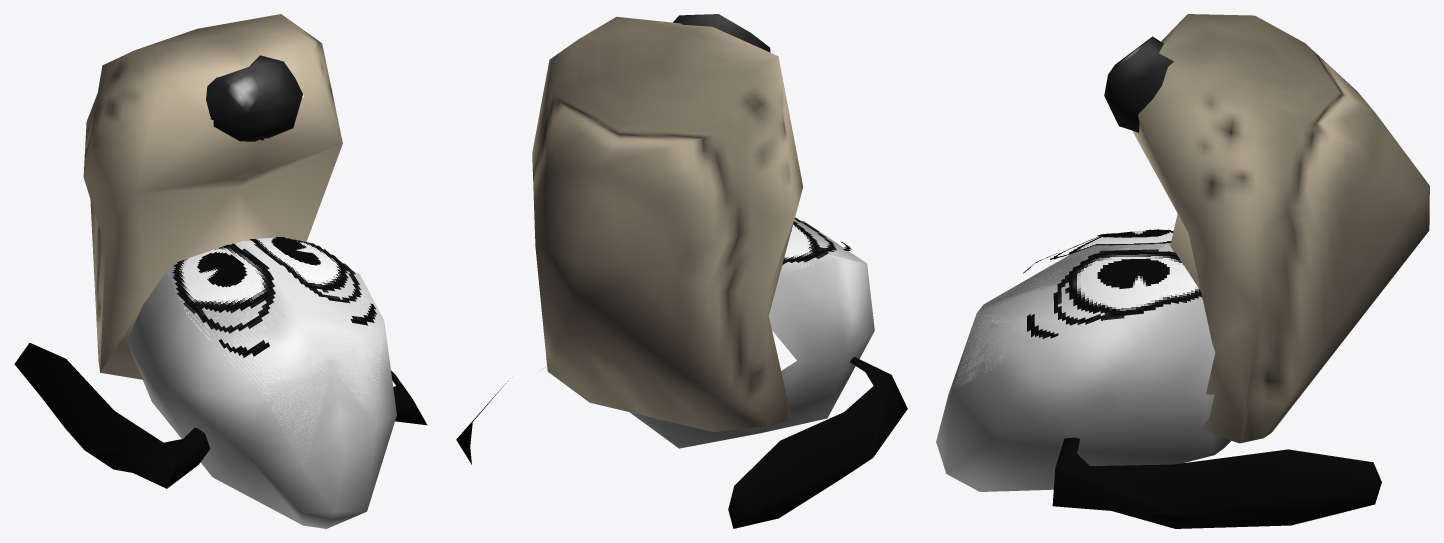
Rendered from dll_500.glb.
3 renders of one model, left to right at view 1: azimuth 30°, elevation 25°; view 2: azimuth 150°, elevation 25°; view 3: azimuth 270°, elevation 25°, orthographic. The views are drawn at different scales.
Parts seen in each view (by area): view 1: muzzle, head, ears, eyes, nose, head-front, def_left_pupil, def_right_pupil; view 2: muzzle, head, ears, eyes, nose; view 3: muzzle, head, ears, eyes, nose, head-front, def_right_pupil.
Part boxes in pixels (x1=…): muzzle: x1=83, y1=14, x2=342, y2=379; head: x1=126, y1=241, x2=396, y2=528; ears: x1=14, y1=343, x2=427, y2=488; eyes: x1=172, y1=237, x2=376, y2=357; nose: x1=206, y1=55, x2=302, y2=141; head-front: x1=167, y1=241, x2=383, y2=466; def_left_pupil: x1=197, y1=252, x2=247, y2=287; def_right_pupil: x1=271, y1=237, x2=320, y2=265; muzzle: x1=532, y1=16, x2=802, y2=432; head: x1=630, y1=220, x2=874, y2=448; ears: x1=456, y1=357, x2=907, y2=528; eyes: x1=782, y1=217, x2=851, y2=265; nose: x1=673, y1=14, x2=770, y2=52; muzzle: x1=1132, y1=14, x2=1429, y2=443; head: x1=936, y1=243, x2=1231, y2=491; ears: x1=1052, y1=437, x2=1381, y2=528; eyes: x1=1023, y1=229, x2=1202, y2=338; nose: x1=1104, y1=36, x2=1173, y2=132; head-front: x1=954, y1=243, x2=1168, y2=387; def_right_pupil: x1=1097, y1=258, x2=1169, y2=288.
Size of the model in its own units: 1.29 by 1.6 by 1.63.
6 materials, 5 textured.
